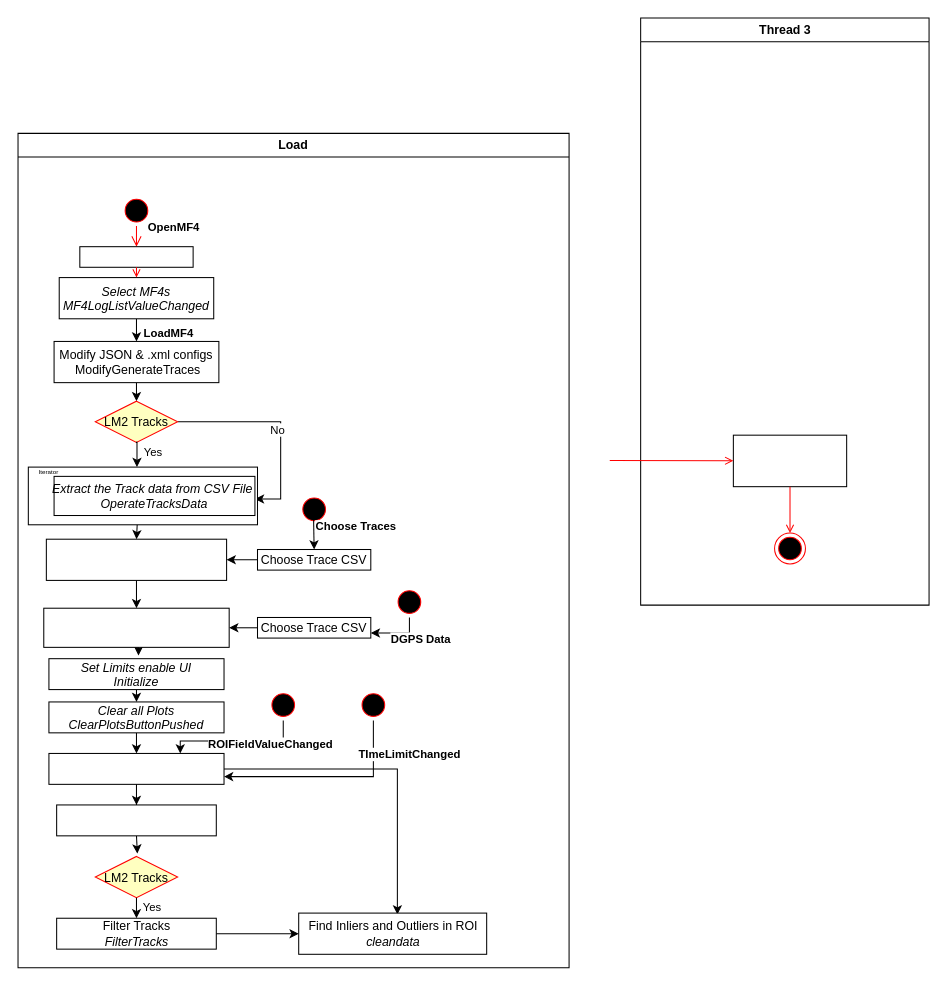
This 948x986 diagram has some shape labels left out. The shapes that lost their labels are listed below. From the top down, each one's centre as x and y in pixels, then its label:
At [136,256]: "Choose MF4s".
At [789,460]: "process command".
At [136,559]: "Extract the Trace CSV File data OperateTraceData".
At [136,627]: "Extract the Target data CSV File OperateDGPSData".
At [136,768]: "Detections Filtering FIT2ROI".
At [136,820]: "Plot Range & Range Rate PlotRange , PlotRangeRate".
